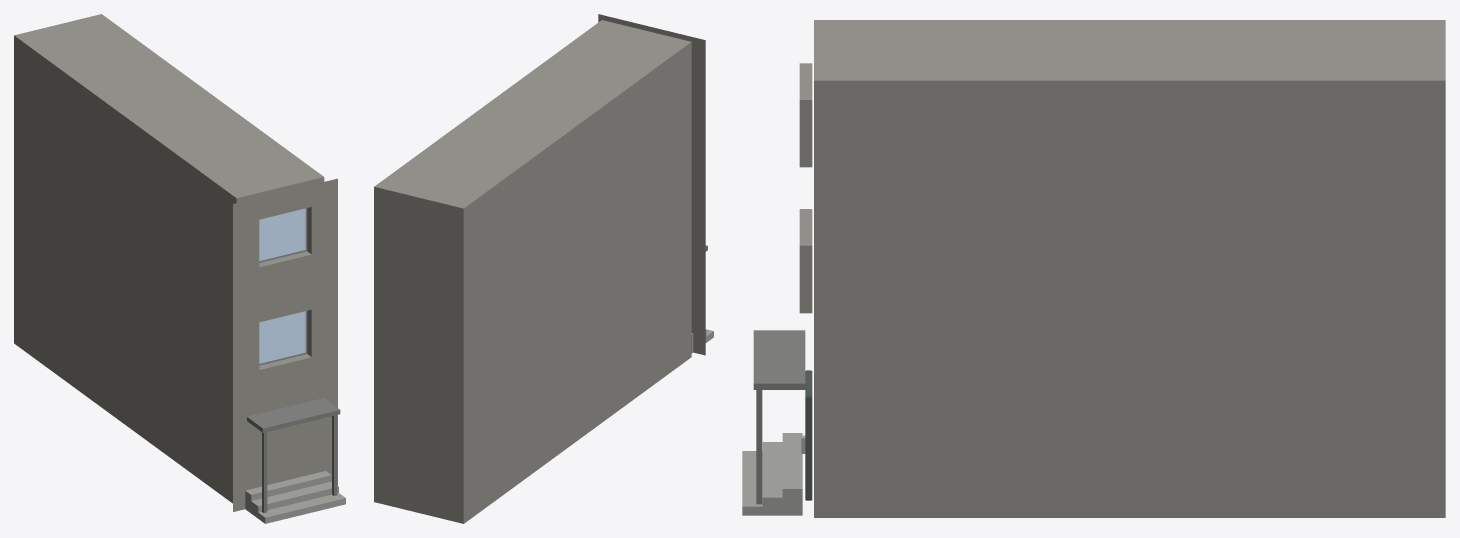
File: module_entrance_bay.glb
3 renders of one model, left to right at view 1: azimuth 30°, elevation 25°; view 2: azimuth 150°, elevation 25°; view 3: azimuth 270°, elevation 25°, orthographic. The views are drawn at different scales.
Parts seen in each view (by area): view 1: mass, facade, canopy, step.002, step, step.001, canopy_post, canopy_post.001; view 2: mass, facade; view 3: mass, canopy, facade, step, step.001, step.002, door, canopy_post.001.
Part boxes in pixels (bbox=[...]): mass: bbox=[14, 14, 324, 503]; facade: bbox=[233, 178, 337, 511]; canopy: bbox=[247, 398, 340, 432]; step.002: bbox=[258, 493, 345, 523]; step: bbox=[245, 471, 331, 513]; step.001: bbox=[251, 481, 338, 518]; canopy_post: bbox=[262, 432, 267, 512]; canopy_post.001: bbox=[332, 415, 337, 495]; mass: bbox=[374, 20, 691, 523]; facade: bbox=[598, 14, 705, 355]; mass: bbox=[814, 20, 1445, 517]; canopy: bbox=[753, 330, 805, 389]; facade: bbox=[799, 63, 812, 313]; step: bbox=[782, 433, 802, 515]; step.001: bbox=[762, 442, 782, 515]; step.002: bbox=[742, 451, 762, 515]; door: bbox=[805, 370, 812, 500]; canopy_post.001: bbox=[756, 390, 762, 504].
Size of what is drawn, in the model's own units: 3 by 8.4 by 12.25.
